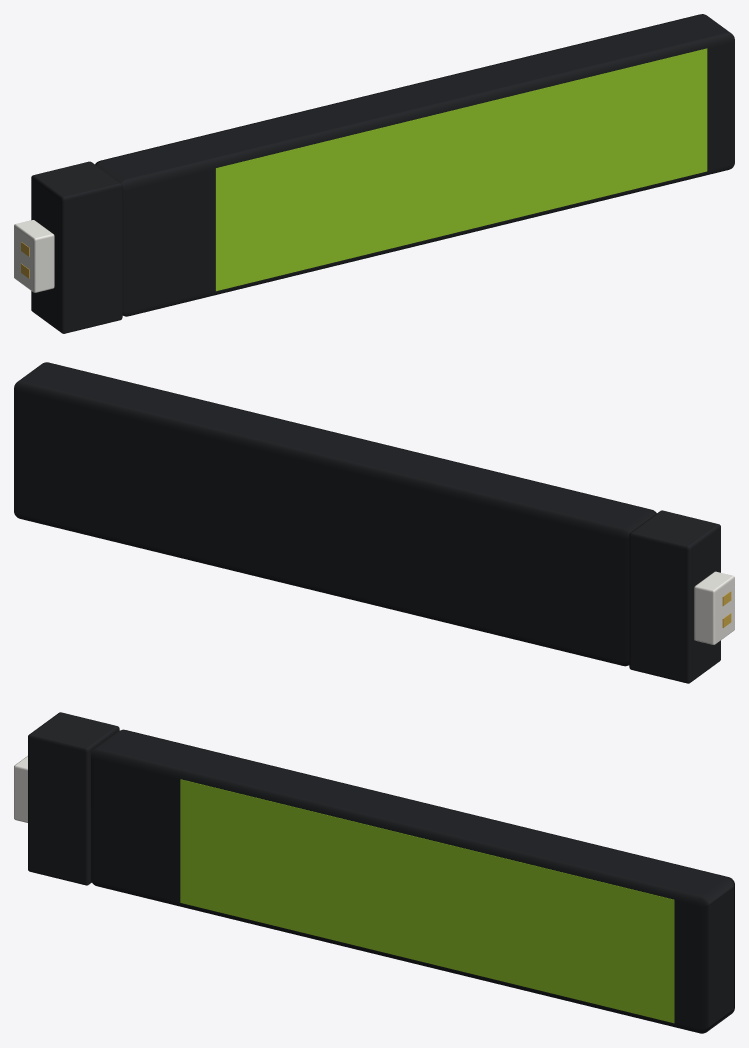
Rendered from betafpv-lava-1s-680.glb.
The picture shows the model from 3 angles, top to bottom: view 1: azimuth 30°, elevation 25°; view 2: azimuth 150°, elevation 25°; view 3: azimuth 330°, elevation 25°; orthographic projection.
Visible parts, largest first — view 1: label, body, connector_housing, connector; view 2: body, connector_housing, connector; view 3: label, body, connector_housing, connector.
Boxes of the visible parts, left/top/right/bottom form: label: left=215, top=48, right=707, bottom=291; body: left=95, top=14, right=734, bottom=316; connector_housing: left=31, top=161, right=122, bottom=333; connector: left=14, top=220, right=54, bottom=292; body: left=14, top=362, right=656, bottom=666; connector_housing: left=629, top=510, right=720, bottom=683; connector: left=694, top=571, right=734, bottom=644; label: left=180, top=779, right=674, bottom=1023; body: left=91, top=729, right=734, bottom=1033; connector_housing: left=28, top=712, right=119, bottom=885; connector: left=14, top=756, right=27, bottom=822.
Bounding box in the file's own units: 80.05 × 15 × 6.53.
